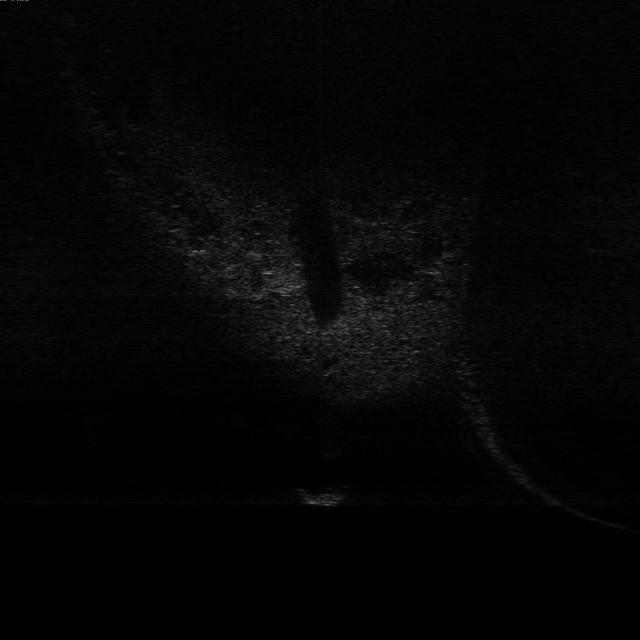square cage: (290, 465, 360, 511)
